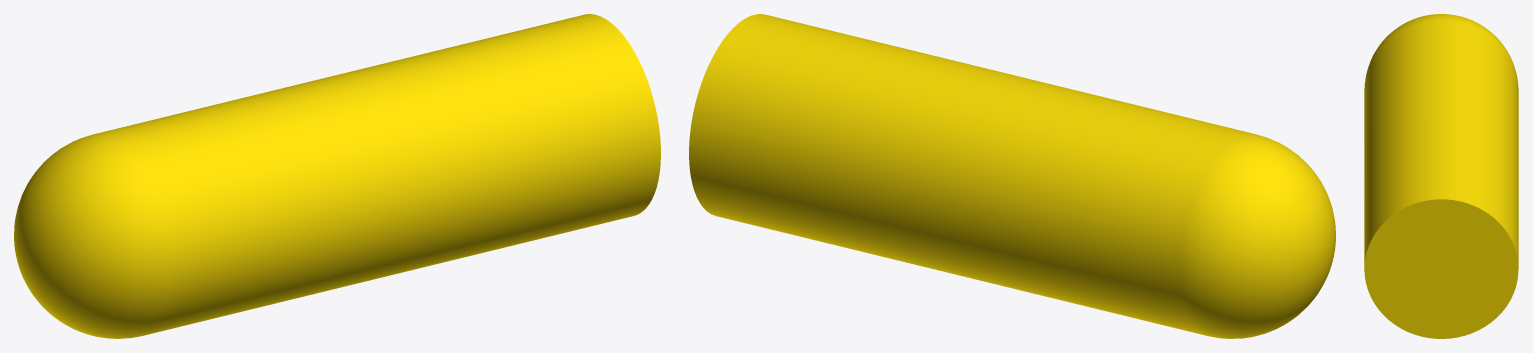
File: POWER ARCHITECTURE__SMARTPLUG INLET SYSTEM__Miniature Bayonet T3 1_4 Bulb & holder.glb
The picture shows the model from 3 angles, left to right: view 1: azimuth 30°, elevation 25°; view 2: azimuth 150°, elevation 25°; view 3: azimuth 270°, elevation 25°; orthographic projection. The views are drawn at different scales.
Parts seen in each view (by area): view 1: Miniature Bayonet T3 1/4 Bulb & holder; view 2: Miniature Bayonet T3 1/4 Bulb & holder; view 3: Miniature Bayonet T3 1/4 Bulb & holder.
Part boxes in pixels (box(x1,y1,x2,y2)): Miniature Bayonet T3 1/4 Bulb & holder: box(14, 14, 660, 338); Miniature Bayonet T3 1/4 Bulb & holder: box(689, 14, 1335, 338); Miniature Bayonet T3 1/4 Bulb & holder: box(1364, 14, 1518, 338).
Bounding box in the file's own units: 0.0565 × 0.0175 × 0.0175.
